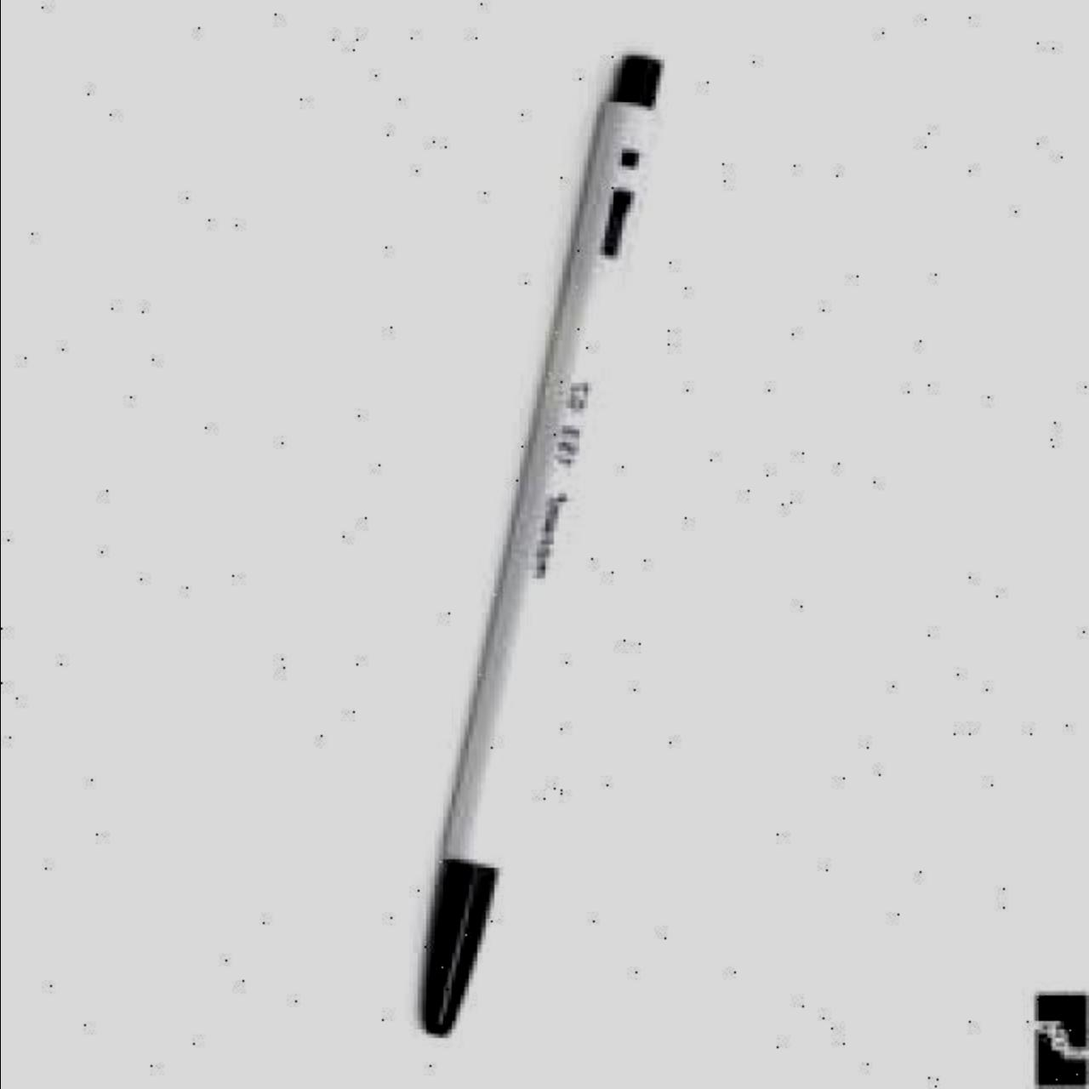pen: (408, 54, 664, 1041)
